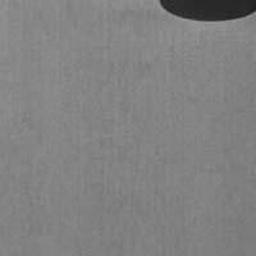Punching: (160, 0, 256, 23)
